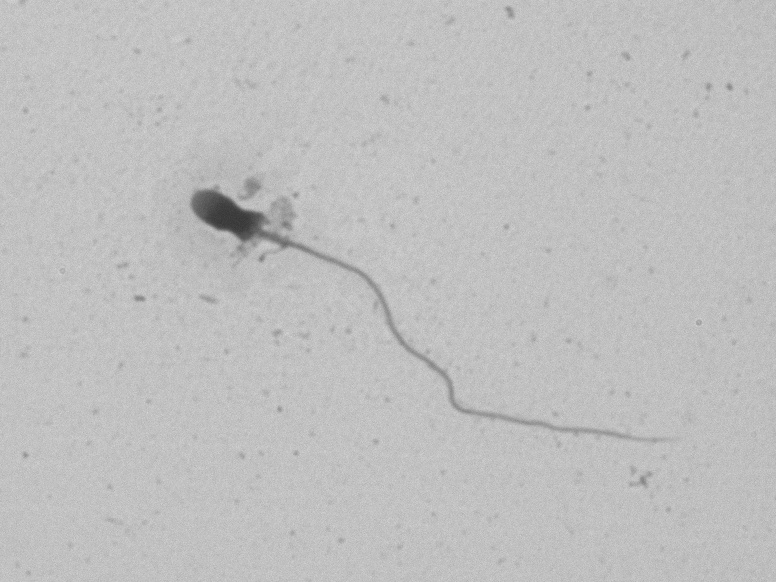Abnormal: (154, 149, 702, 531)
